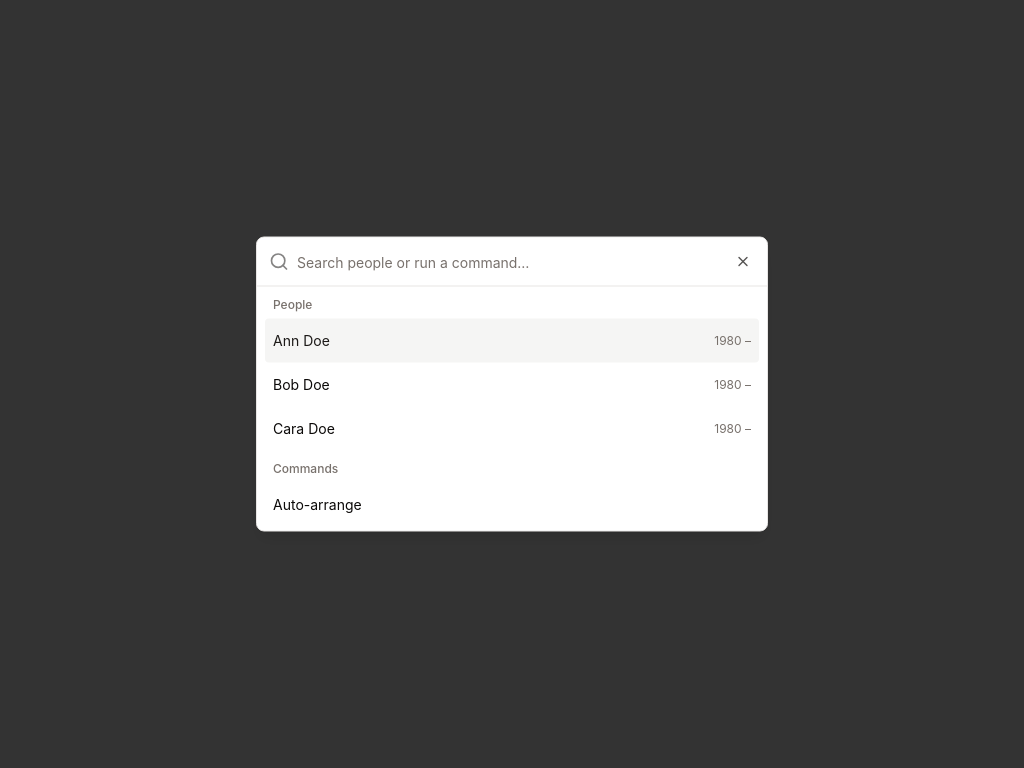
Test: CommandPalette › shows an empty state for no matches
In the dropdown with placeholder "Search people or run a command…": (526, 262) 297,238 -> 755,286, type "zzzz"
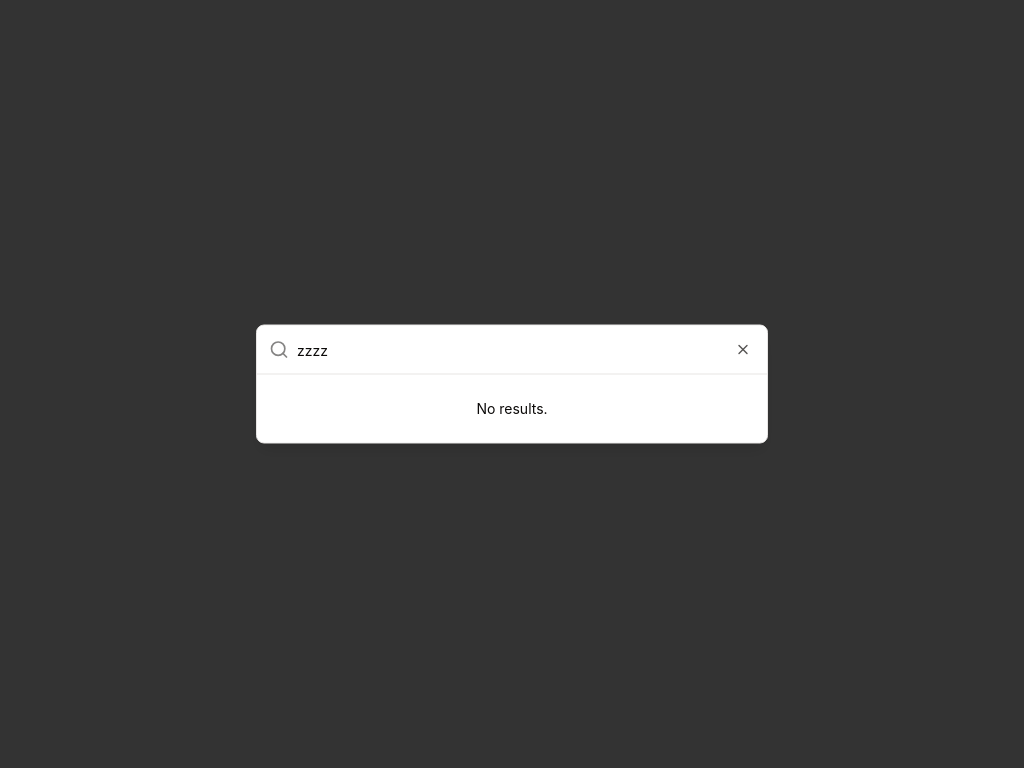
expect the text "No results." is shown: met, box 476,400 -> 548,416
